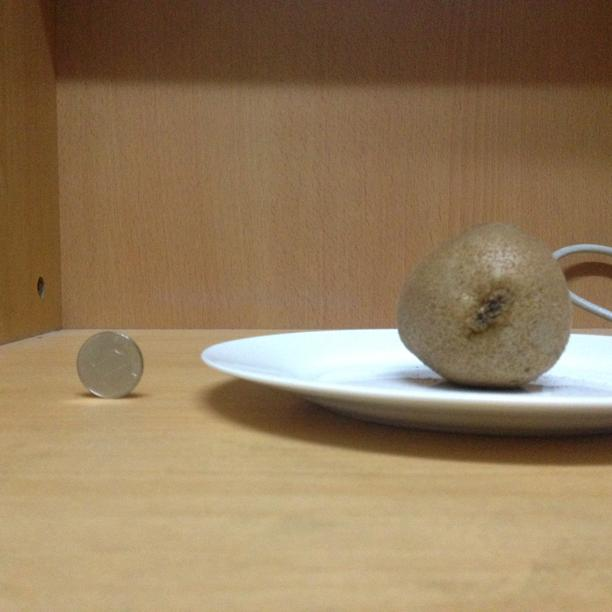coin: (79, 330, 143, 401)
qiwi: (396, 214, 572, 385)
